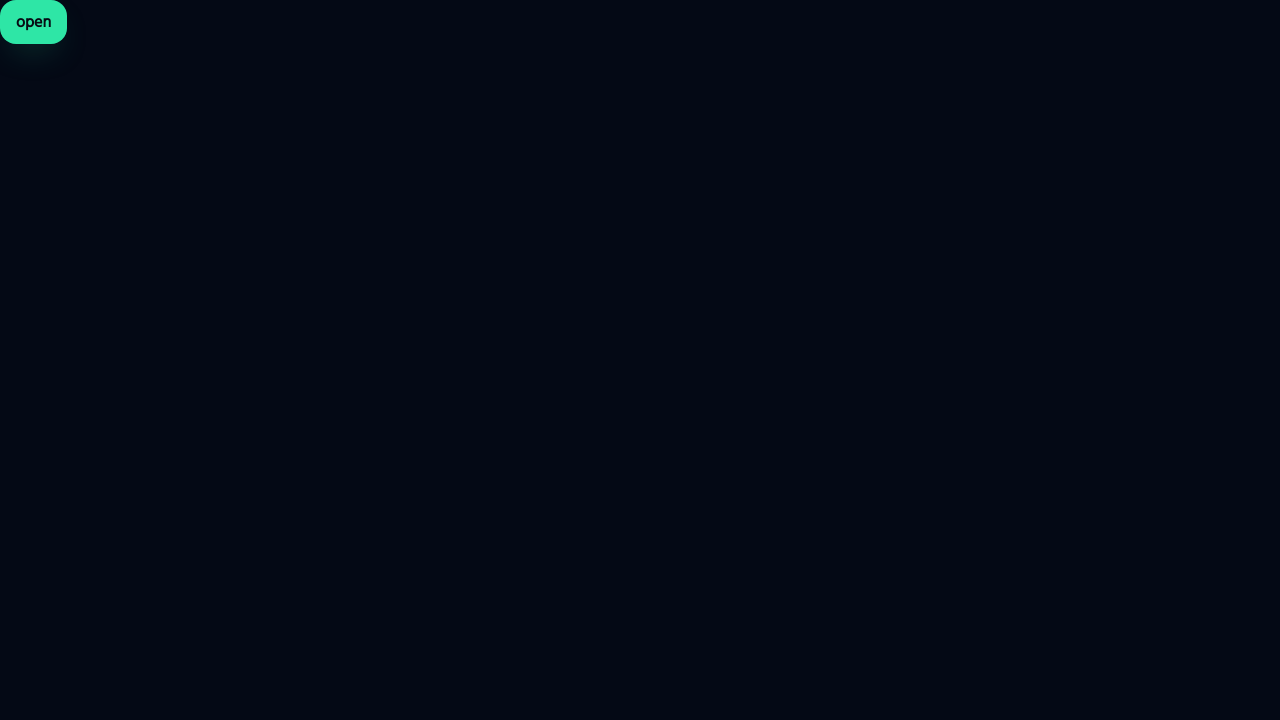
Test: CitationSheet › FR-70 shows the full section text with the quoted span highlighted and the section facts
Click the button "open" at x=34, y=22, box [0,0,67,44]
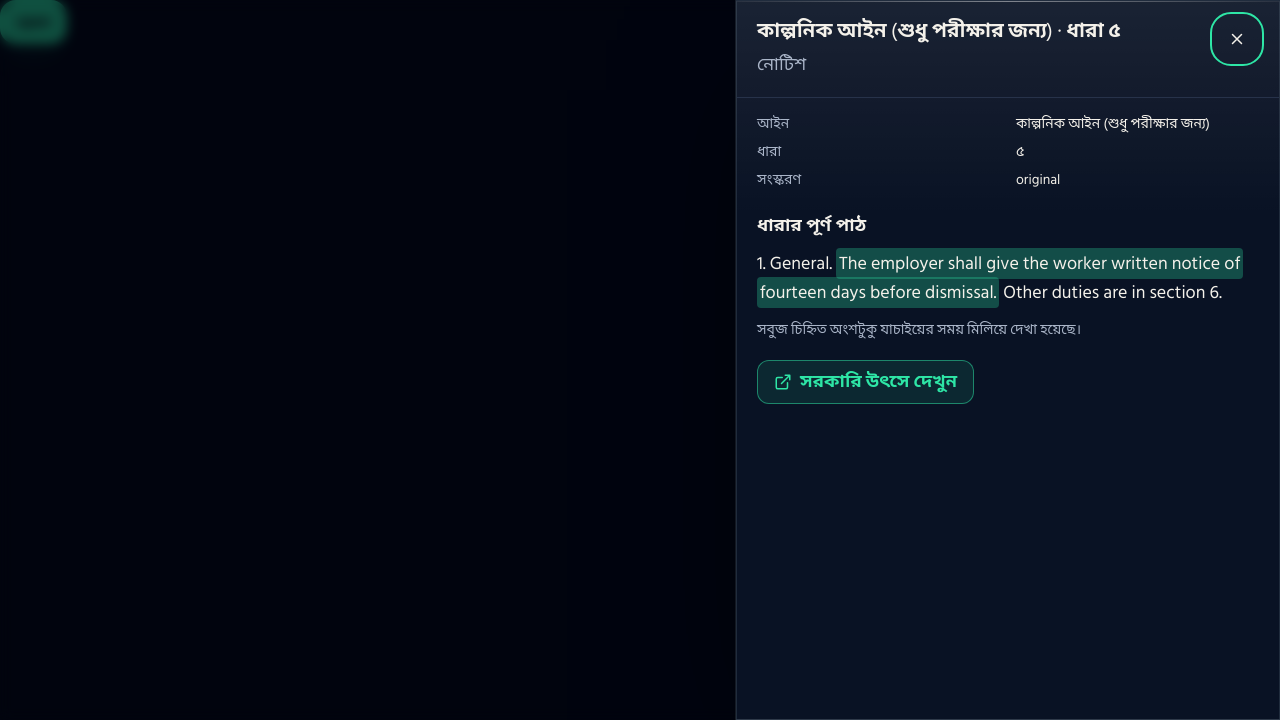
Check: the dialog shows "Other duties are in section 6.", box [999,278,1222,307]
Check: the dialog shows "কাল্পনিক আইন", box [757,15,1121,47]
Check: the dialog shows "original", box [1016,168,1060,190]
